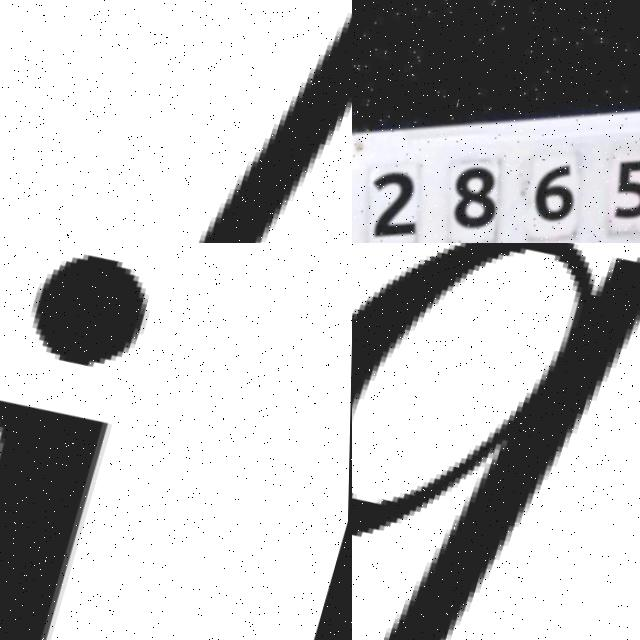2: (352, 146, 441, 243)
5: (585, 138, 640, 243)
6: (504, 137, 601, 243)
8: (422, 138, 521, 243)
I: (0, 243, 208, 640)
L: (95, 0, 352, 243)
Q: (352, 243, 640, 640)
